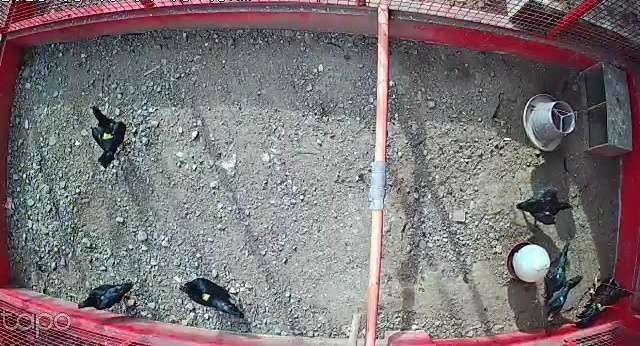Chicken: (172, 274, 244, 318), (89, 99, 131, 170), (517, 181, 577, 228), (541, 268, 584, 326), (75, 276, 140, 314), (542, 240, 577, 304)
Rooster: (573, 262, 638, 331)
Saddle_Color_Yellow: (100, 130, 115, 142)
